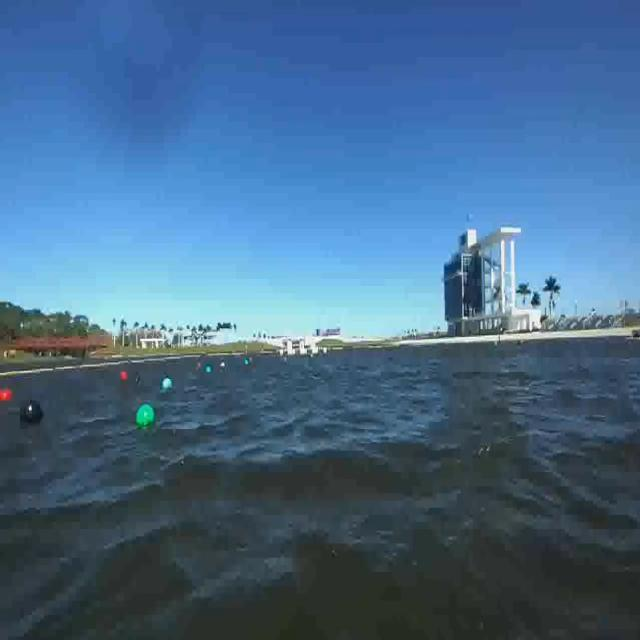black-buoy: (23, 401, 45, 426)
green-buoy: (137, 406, 155, 430), (162, 376, 174, 391)
red-buoy: (0, 389, 13, 401), (120, 370, 127, 379)
